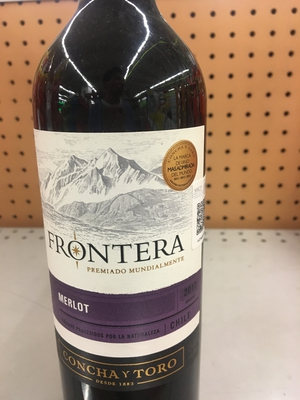frontera merlot: (34, 3, 215, 400)
